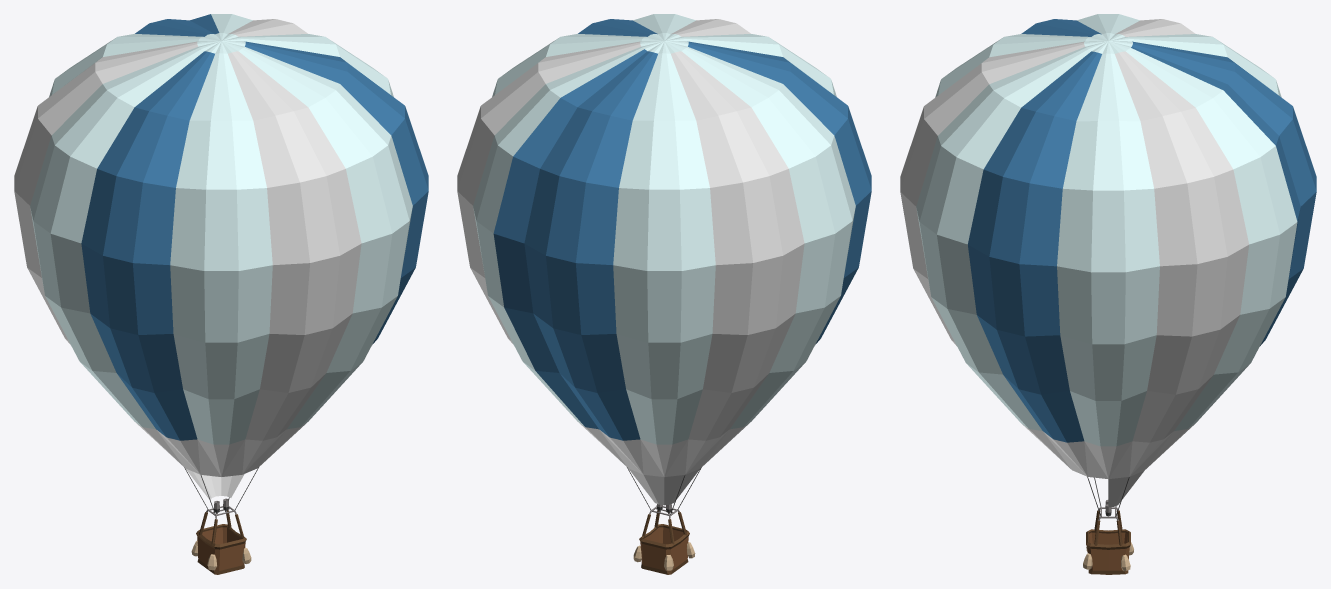
The model's file is balloon-stripes.fbx.
3 views of the same model, side by side, from view 1: azimuth 30°, elevation 25°; view 2: azimuth 150°, elevation 25°; view 3: azimuth 270°, elevation 25° (orthographic).
Visible parts, largest first — view 1: balloon-stripes; view 2: balloon-stripes; view 3: balloon-stripes.
Part boxes in pixels (box(x1,y1,x2,y2)): balloon-stripes: box(14, 14, 428, 574); balloon-stripes: box(457, 14, 871, 574); balloon-stripes: box(900, 14, 1316, 574).
Bounding box in the file's own units: 16.03 × 22.43 × 16.03.
